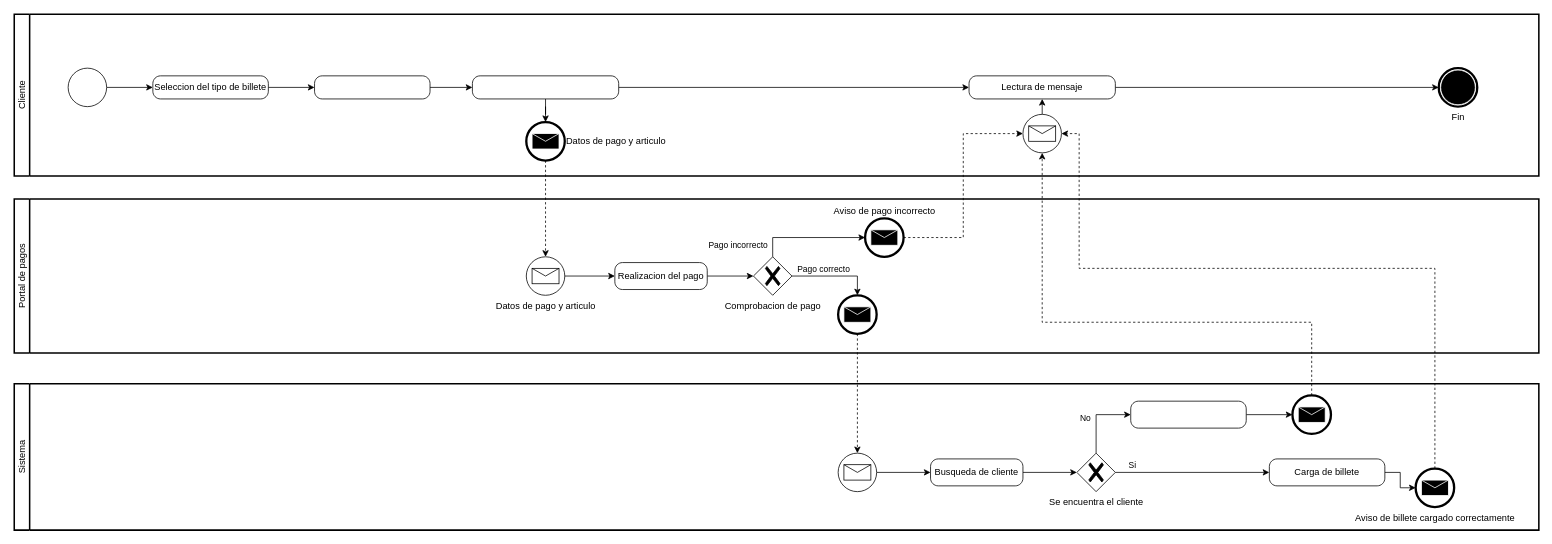
The diagram is 1552 pixels wide and 544 high, and some of its shapes have lost their labels. Each missing label, with the centre of its shape:
"Acceso al portal de pagos" goes at point 372,87.
"Articulo y cliente" goes at point 857,472.
"Aviso de devolucion por no encontrar al cliente" goes at point 1311,414.
"Datos" goes at point 857,314.
"Devolucion del importe" goes at point 1188,414.
"Introduccion de datos de pago" goes at point 545,87.
"Mensaje" goes at point 1041,133.
